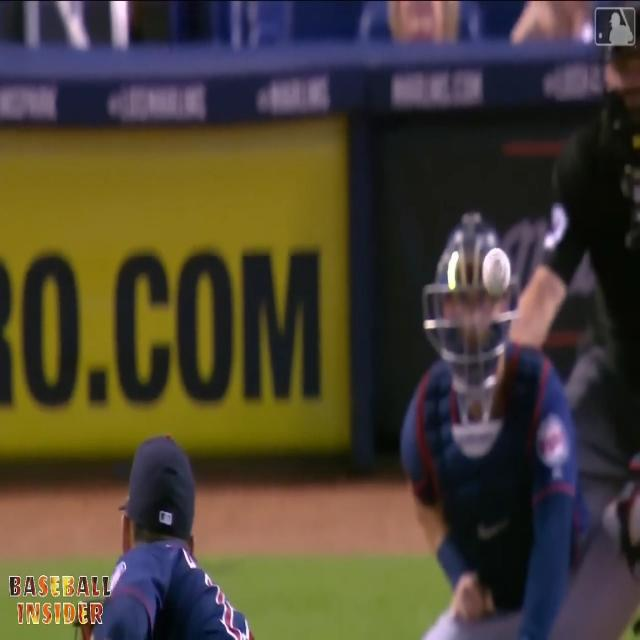baseball: (482, 247, 510, 296)
